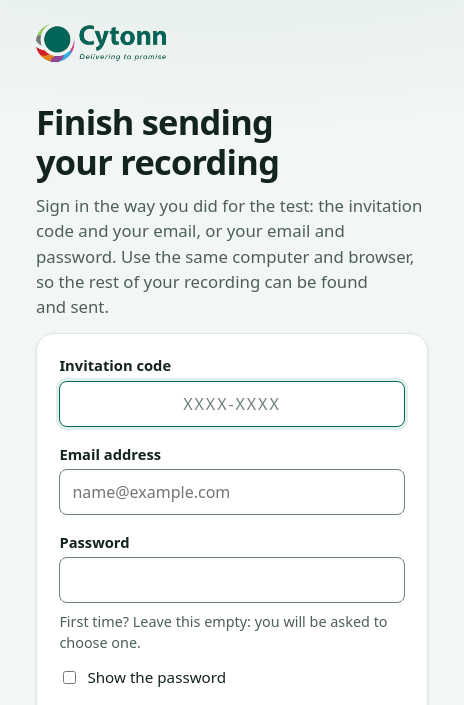
Test: Resume (finishing the upload of a test that is over) › explains nothing_to_resume plainly, with who to contact
Type "ABCDEFGH" into the field with id "invitation". click: (232, 404)
box: [59,381,405,426]
(page scrolled)
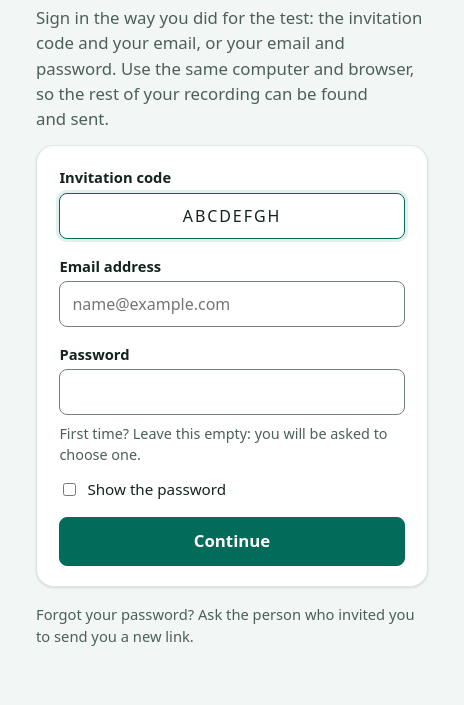
Submit the form, box [36,146,428,587]
(page scrolled)
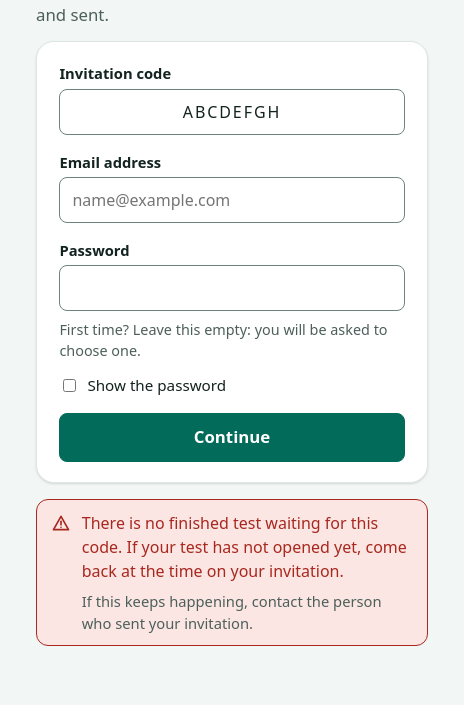
Check: the message shows "If this keeps happening, contact the person who sent your invitation.", box [82,591,382,633]
